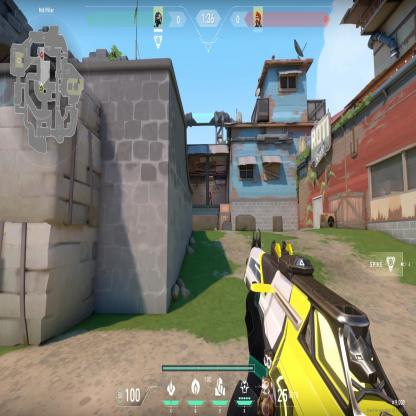enemy: (209, 188, 212, 204)
